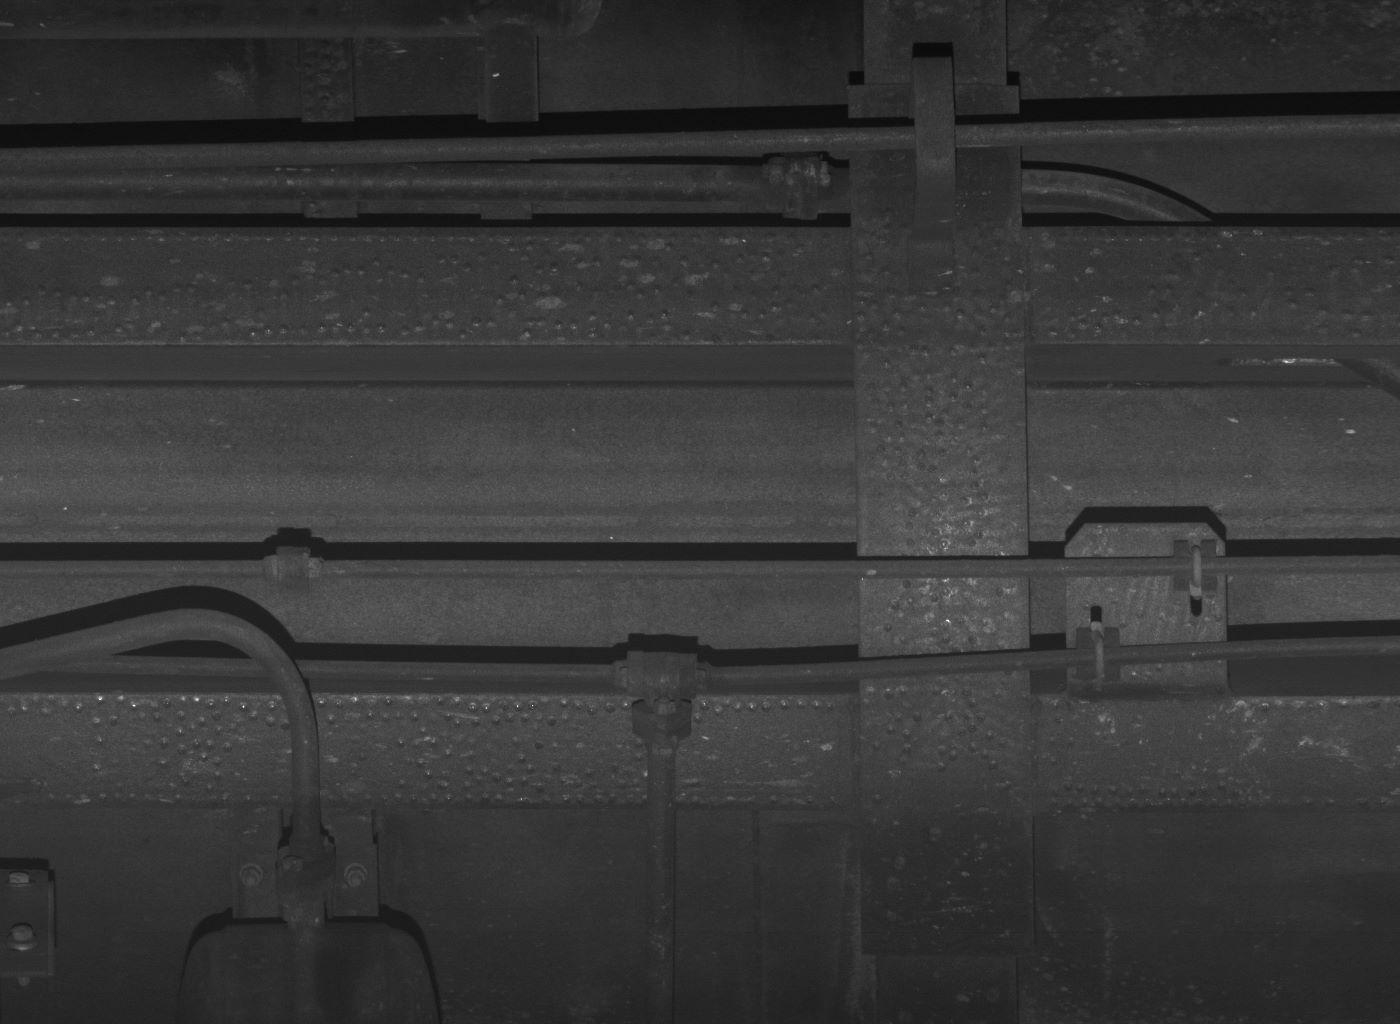normal: (913, 55, 954, 279)
